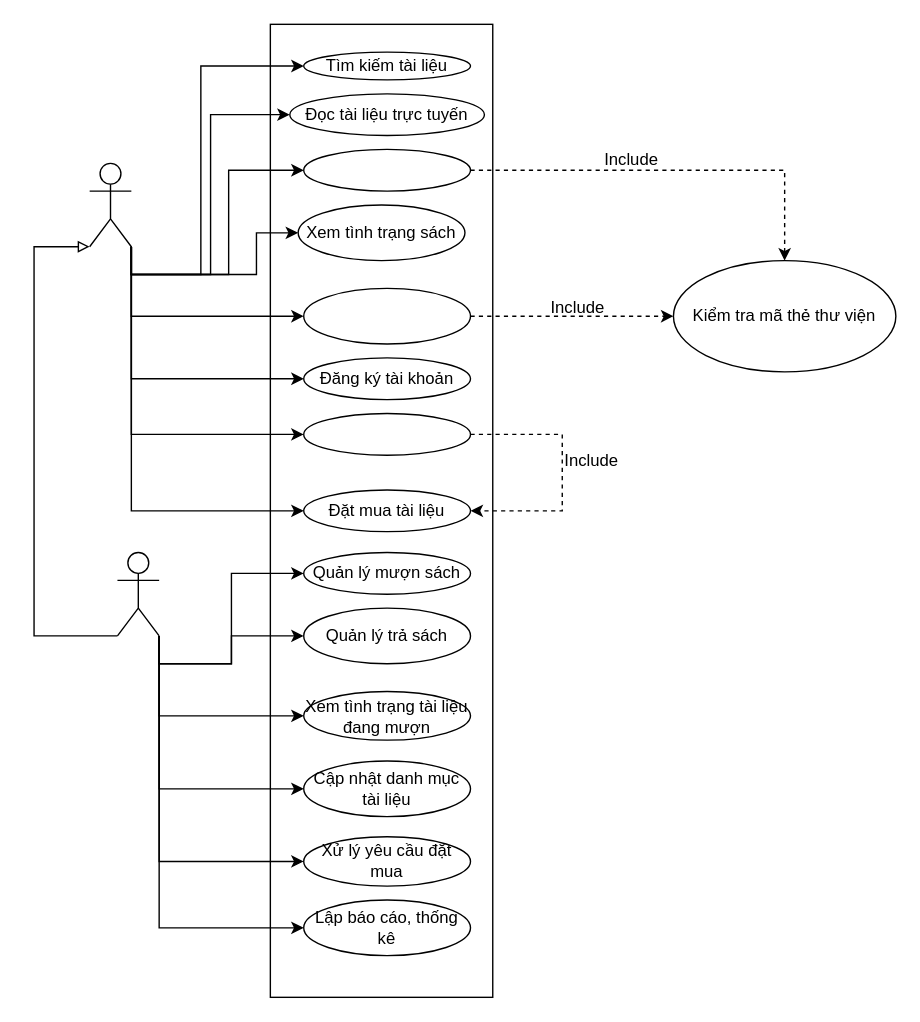
The diagram is 920 pixels wide and 1022 high, and some of its shapes have lost their labels. Each missing label, with the centre of its shape:
"Thủ thư" goes at point (137, 593).
"Tải tài liệu điện tử" goes at point (386, 169).
"Đăng ký mượn sách" goes at point (386, 315).
"Đăng nhập" goes at point (386, 433).
"Độc giả" goes at point (109, 204).
